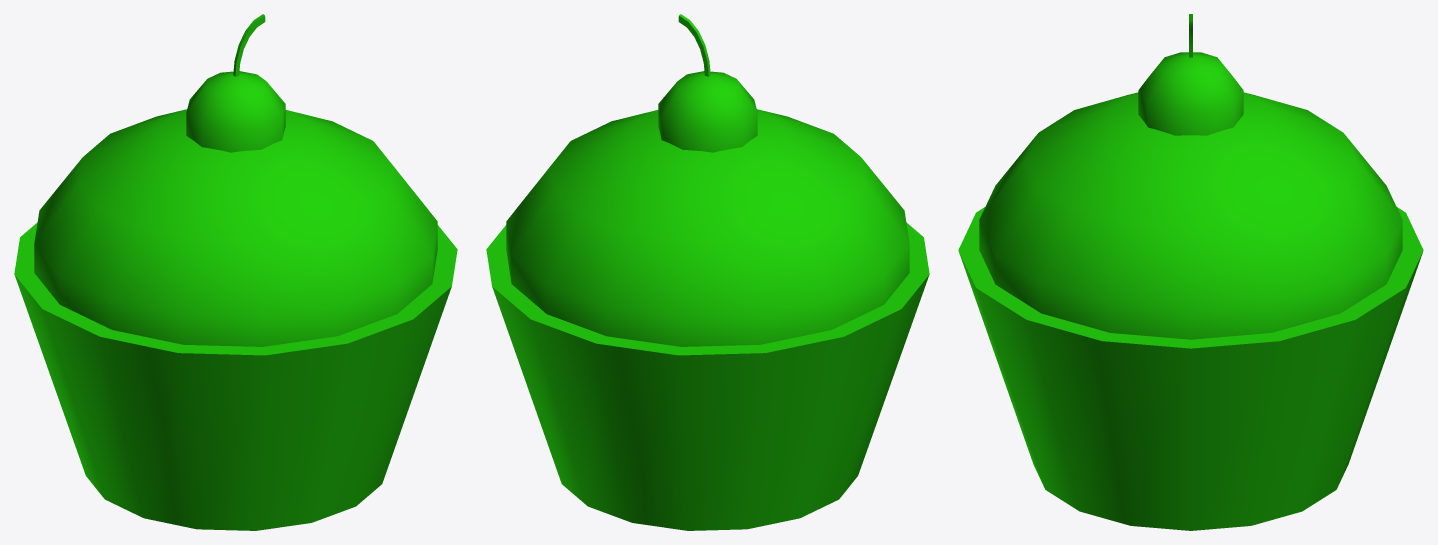
File: Cupcake.fbx
The picture shows the model from 3 angles, left to right: view 1: azimuth 30°, elevation 25°; view 2: azimuth 150°, elevation 25°; view 3: azimuth 270°, elevation 25°; orthographic projection. The views are drawn at different scales.
Parts seen in each view (by area): view 1: Cupcake001; view 2: Cupcake001; view 3: Cupcake001.
Part boxes in pixels (x1,y1,x2,y2): Cupcake001: (14,14,457,530); Cupcake001: (486,14,929,530); Cupcake001: (958,14,1423,530).
Bounding box in the file's own units: 0.2643 × 0.2909 × 0.2643.
